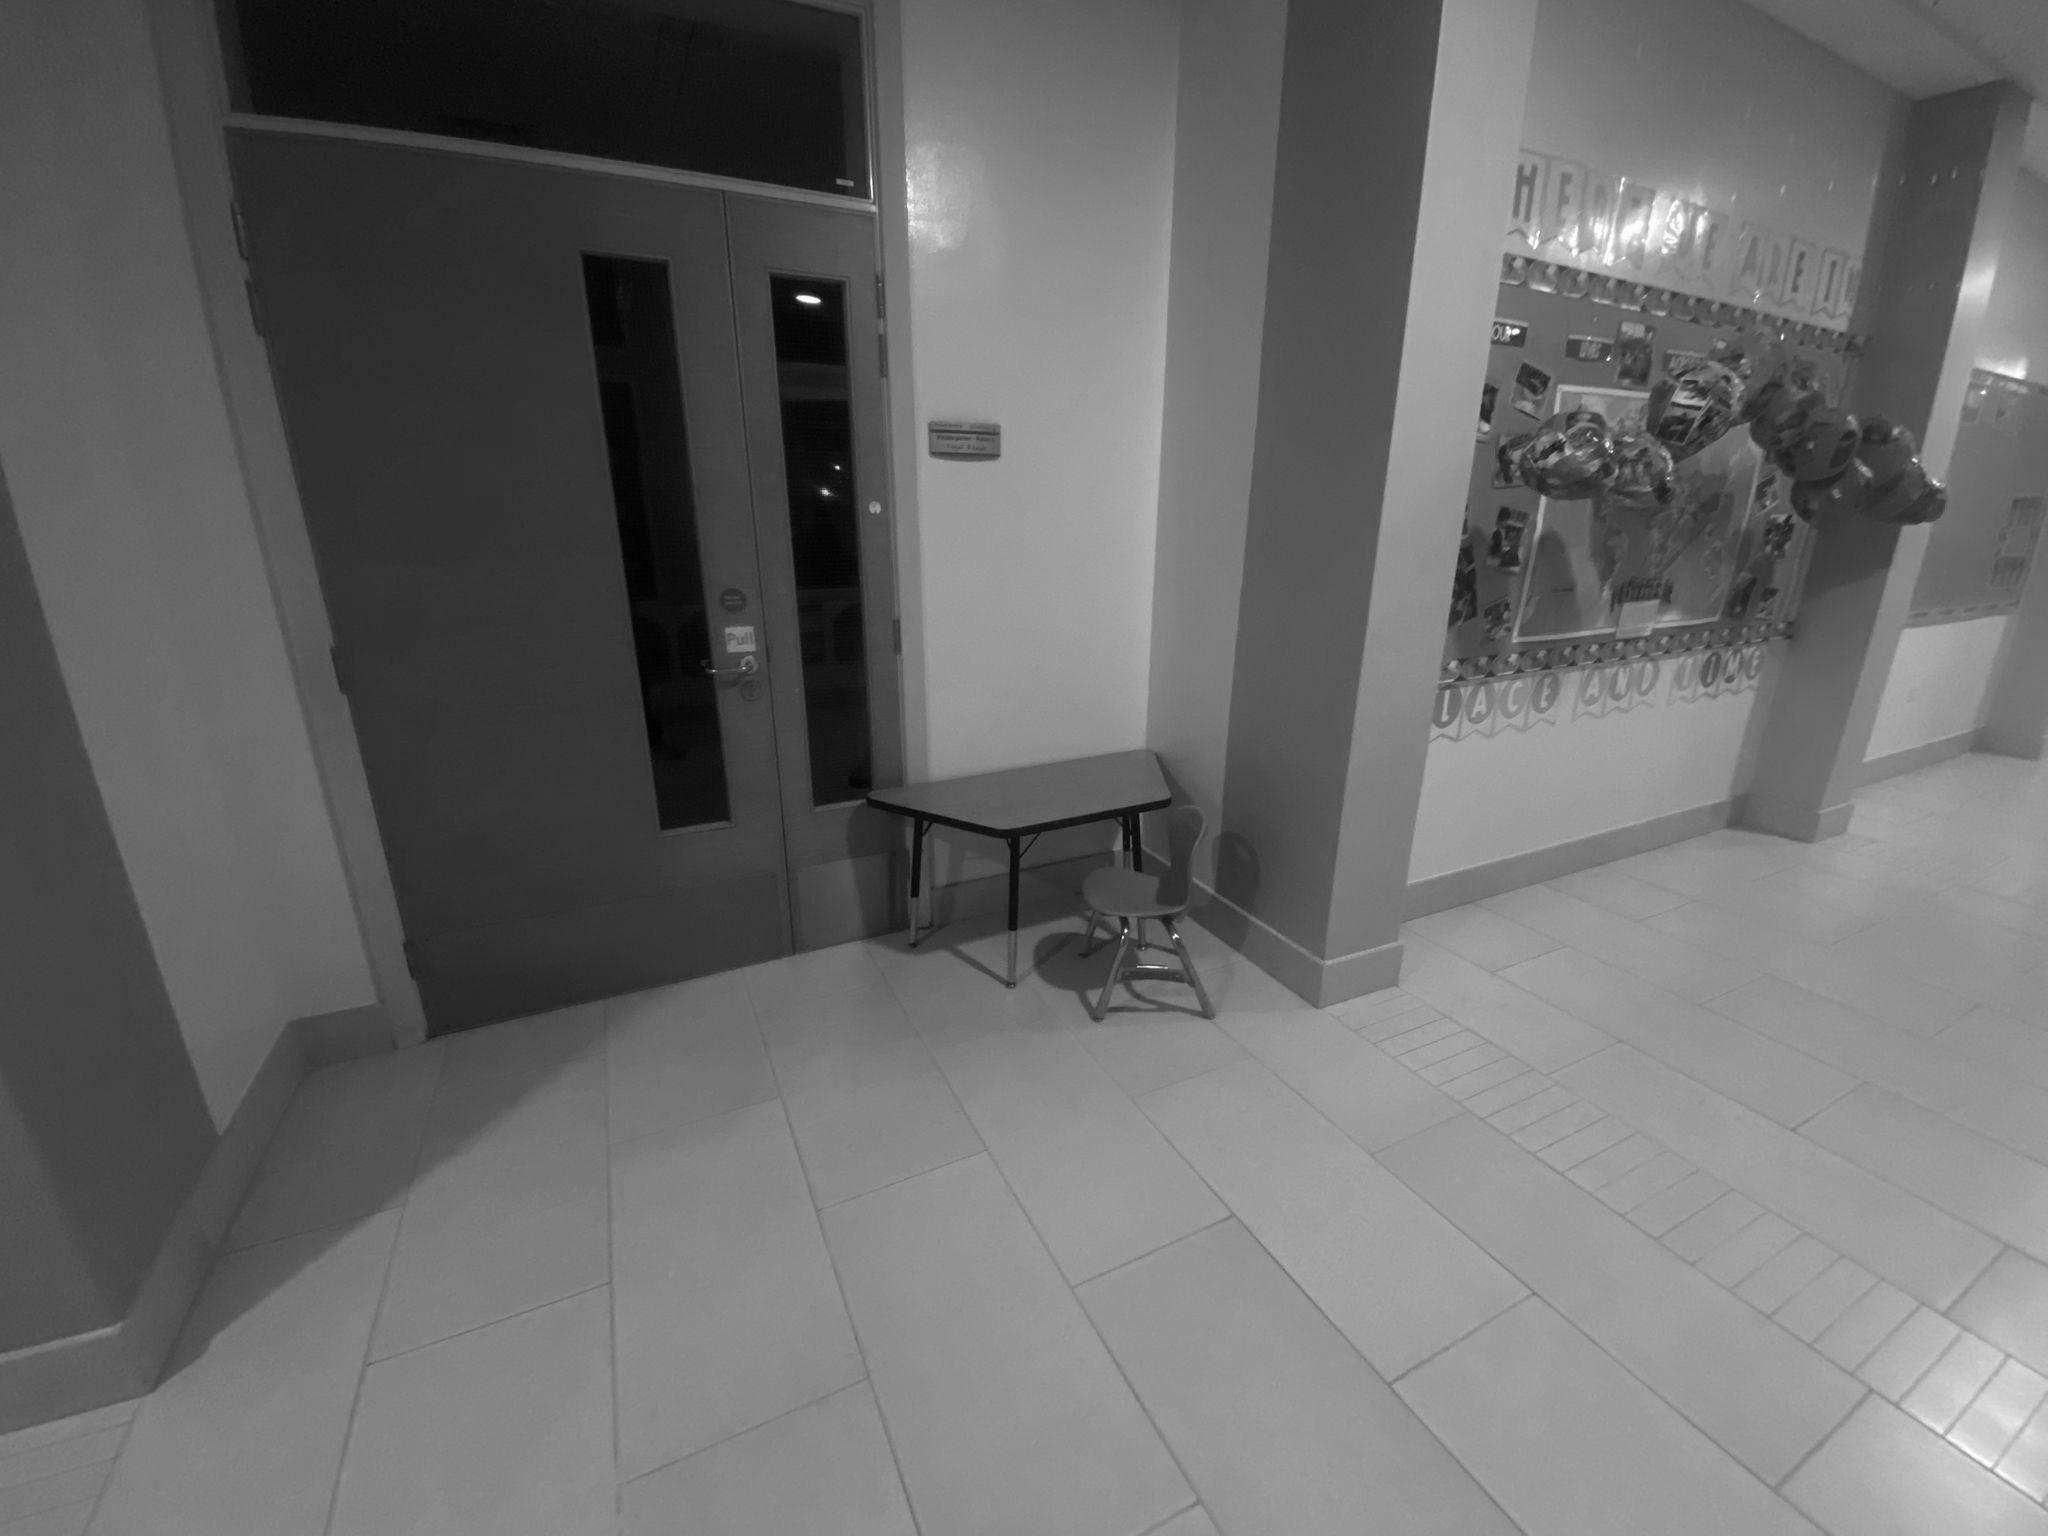Chair: (1080, 803, 1213, 1021)
Pillar: (1216, 0, 1534, 981), (1843, 82, 2029, 478), (1751, 518, 1925, 834)
Table: (864, 750, 1169, 987)
Wall: (887, 0, 1284, 815), (1521, 0, 1908, 273), (1409, 665, 1774, 883), (1869, 615, 2013, 758), (1979, 173, 2046, 381)
